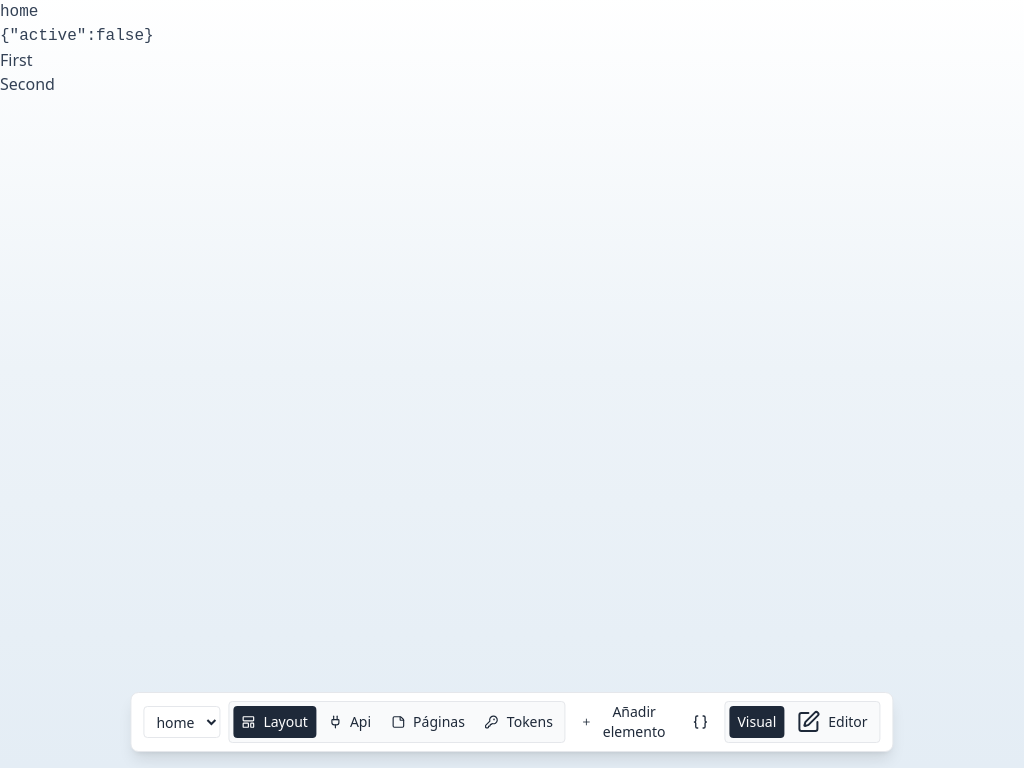
Test: DevEditorLayer / selection overlay visibility by mode › renders FloatingSelectionOverlay anchored to the selected node once in editor mode
The width and height of the screenshot is (1024, 768).
Click the button with test id "dev-editor-toolbar-mode-editor" at (832, 722), box [788,706,876,738]
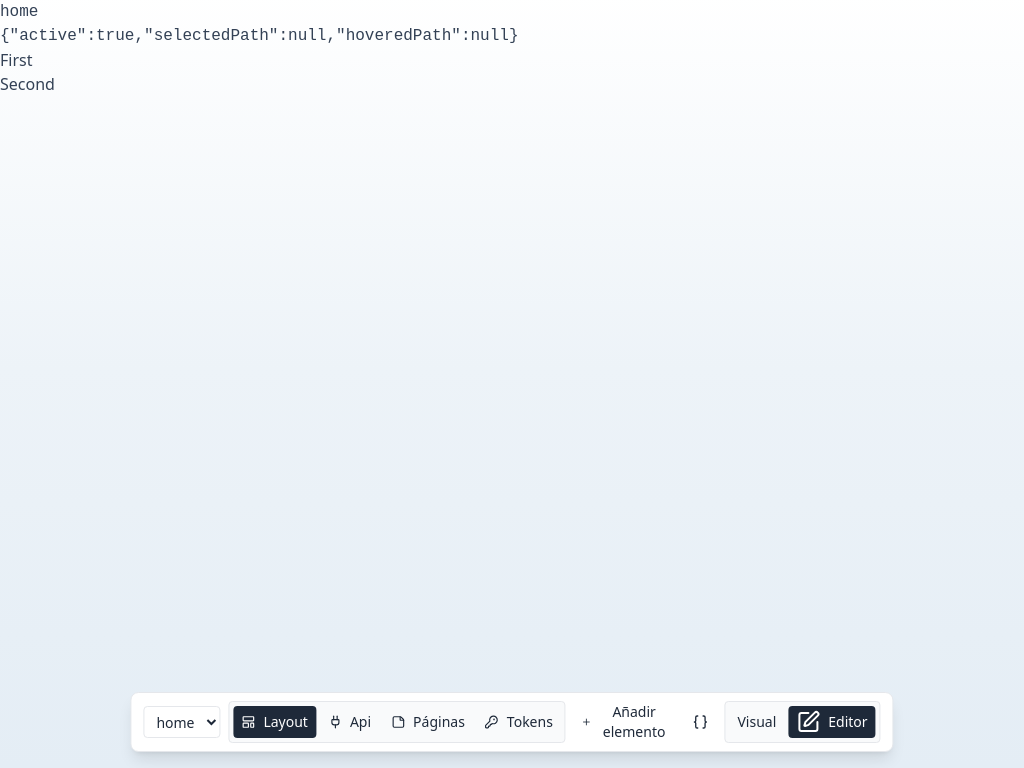
Click the text with test id "probe-node-a" at (16, 60), box [0,49,32,71]
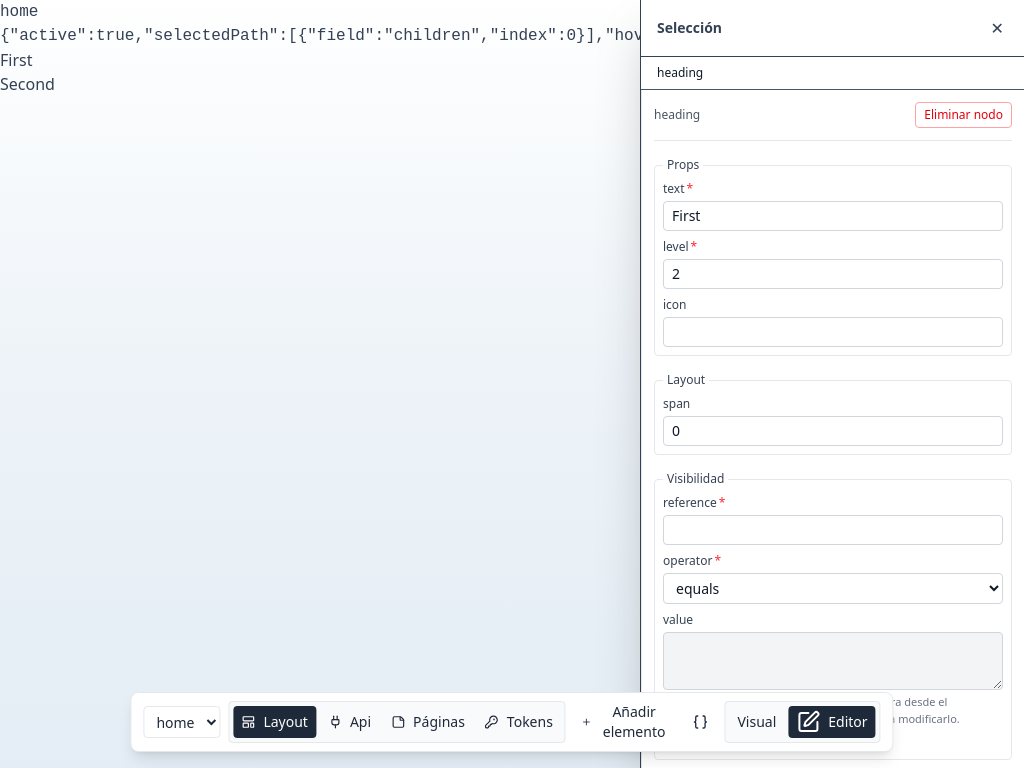
Check: the element with test id "dev-editor-selection-overlay" is shown, box [640,0,1023,767]
